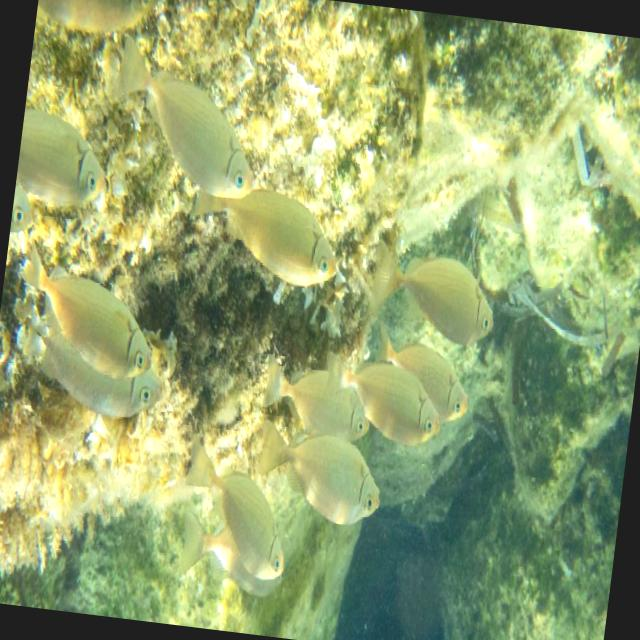Sokar Baligi: (4, 233, 170, 382), (356, 221, 514, 360), (178, 175, 352, 298), (243, 410, 390, 548)
